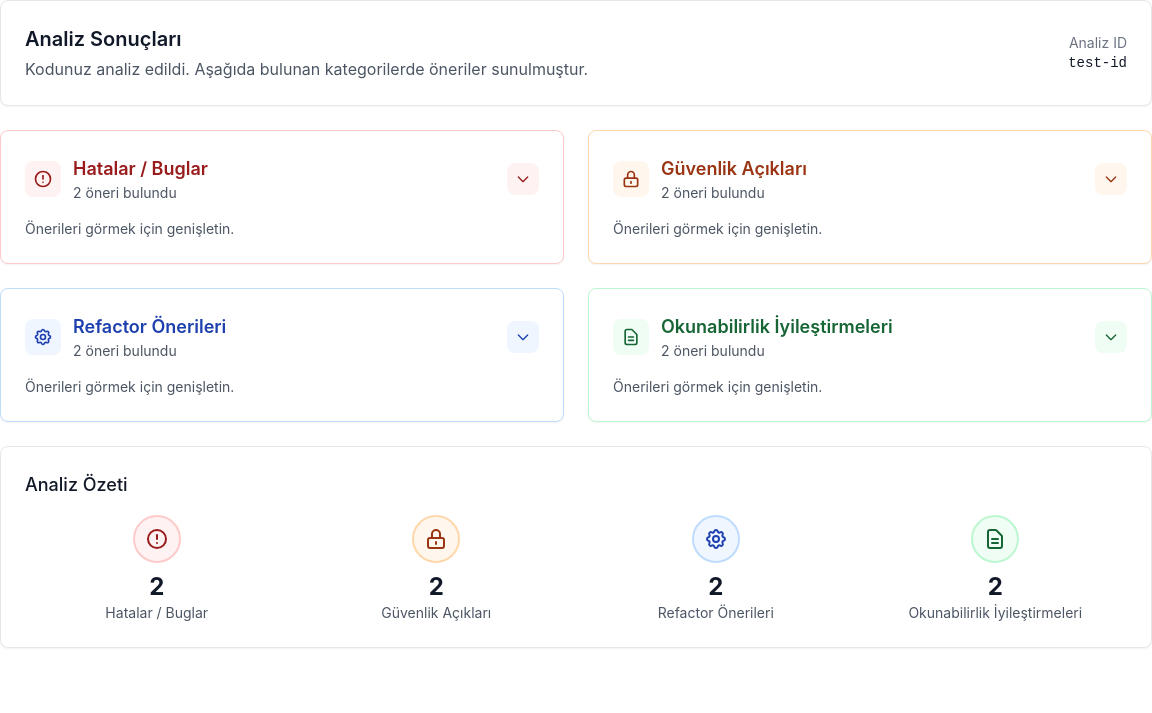
it: AnalysisResults Component › expands and collapses suggestion cards
Expected: the text "Önerileri görmek için genişletin." is shown 4 times, [25,220,234,237]; [613,220,822,237]; [25,378,234,395]; [613,378,822,395]
Note: Click to expand
Click the 1st button: x=523, y=179 [507,163,539,195]
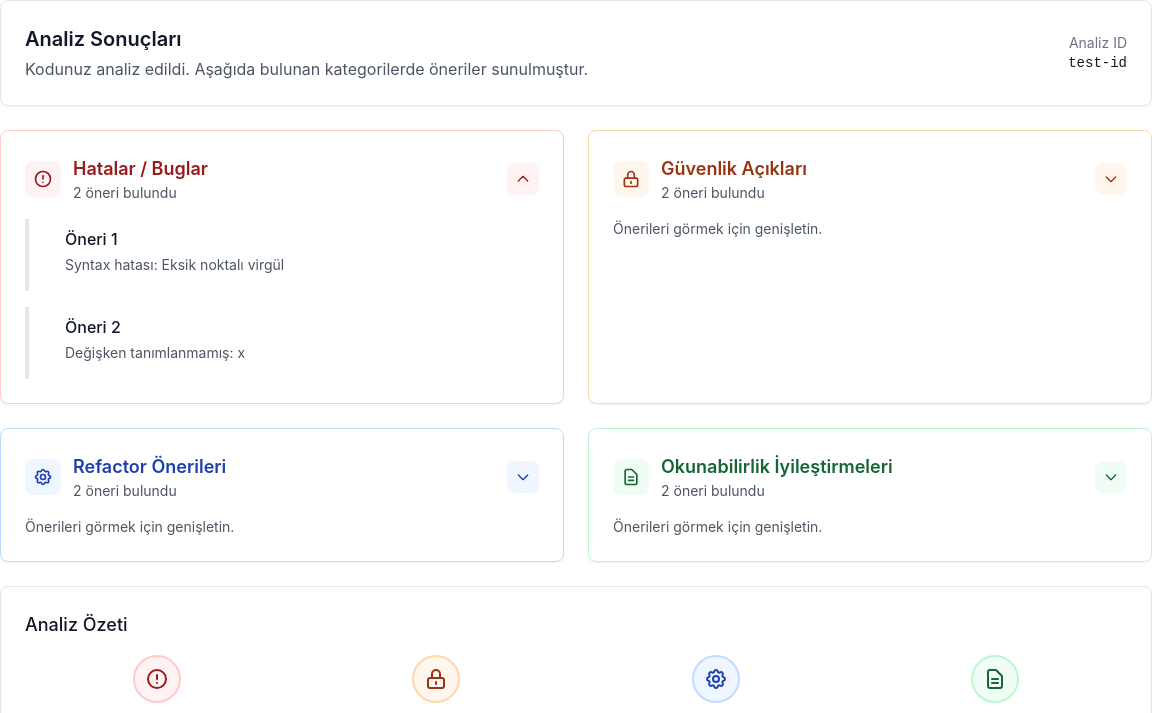
Result: the text "Syntax hatası: Eksik noktalı virgül" is shown at [65,256,284,273]
Result: the text "Değişken tanımlanmamış: x" is shown at [65,344,245,361]
